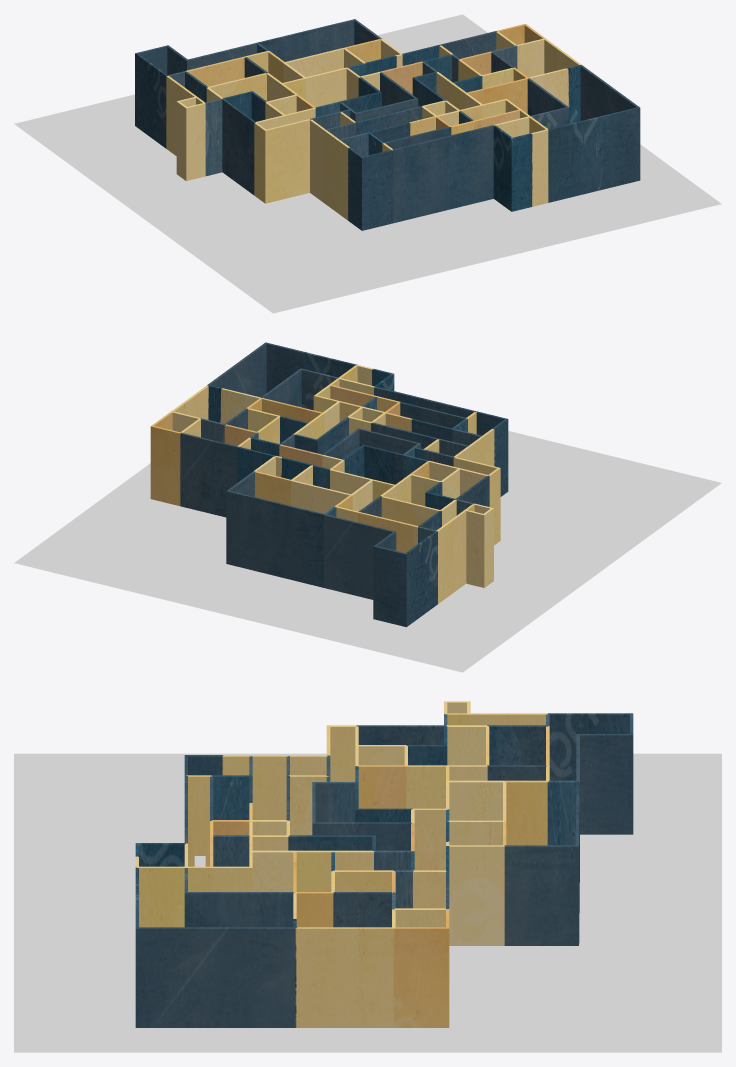
The model's file is MapTextureTest.fbx.
3 renders of one model, top to bottom at view 1: azimuth 30°, elevation 25°; view 2: azimuth 150°, elevation 25°; view 3: azimuth 270°, elevation 25°, orthographic. The views are drawn at different scales.
Parts seen in each view (by area): view 1: Walls, Floor; view 2: Walls, Floor; view 3: Walls, Floor.
Part boxes in pixels (x1=…): Walls: x1=135, y1=19, x2=640, y2=230; Floor: x1=14, y1=14, x2=721, y2=313; Walls: x1=150, y1=342, x2=508, y2=627; Floor: x1=14, y1=431, x2=721, y2=672; Walls: x1=135, y1=701, x2=633, y2=1027; Floor: x1=14, y1=753, x2=721, y2=1052.
Bounding box in the file's own units: 6330 × 1056 × 6330.
